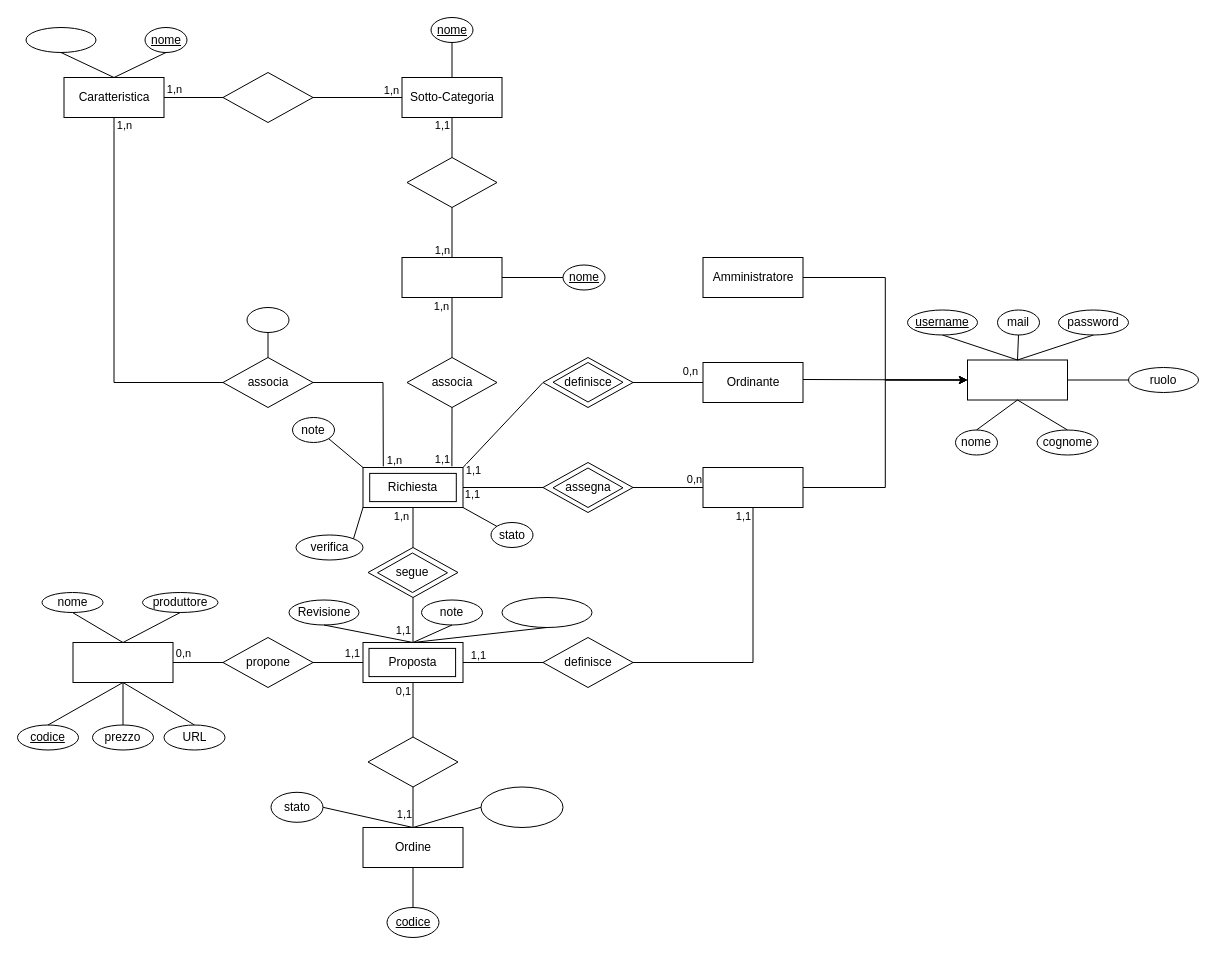
This 1216x955 diagram has some shape labels left out. Each missing label, with the box of its shape:
Categoria: (401, 256, 502, 298)
contiene: (222, 72, 313, 122)
data di consegna: (480, 786, 563, 828)
descrizione: (25, 26, 96, 52)
diventa: (367, 736, 458, 787)
include: (406, 156, 497, 208)
Prodotto: (72, 642, 173, 682)
rev_motivazione: (501, 596, 592, 628)
Tecnico: (702, 466, 803, 508)
Utente: (966, 359, 1068, 400)
valore: (246, 306, 289, 332)
